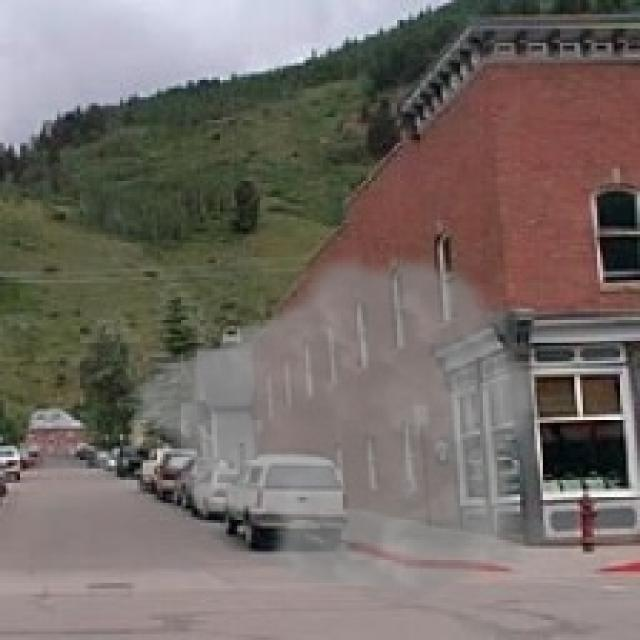Smoke: (120, 246, 543, 603)
